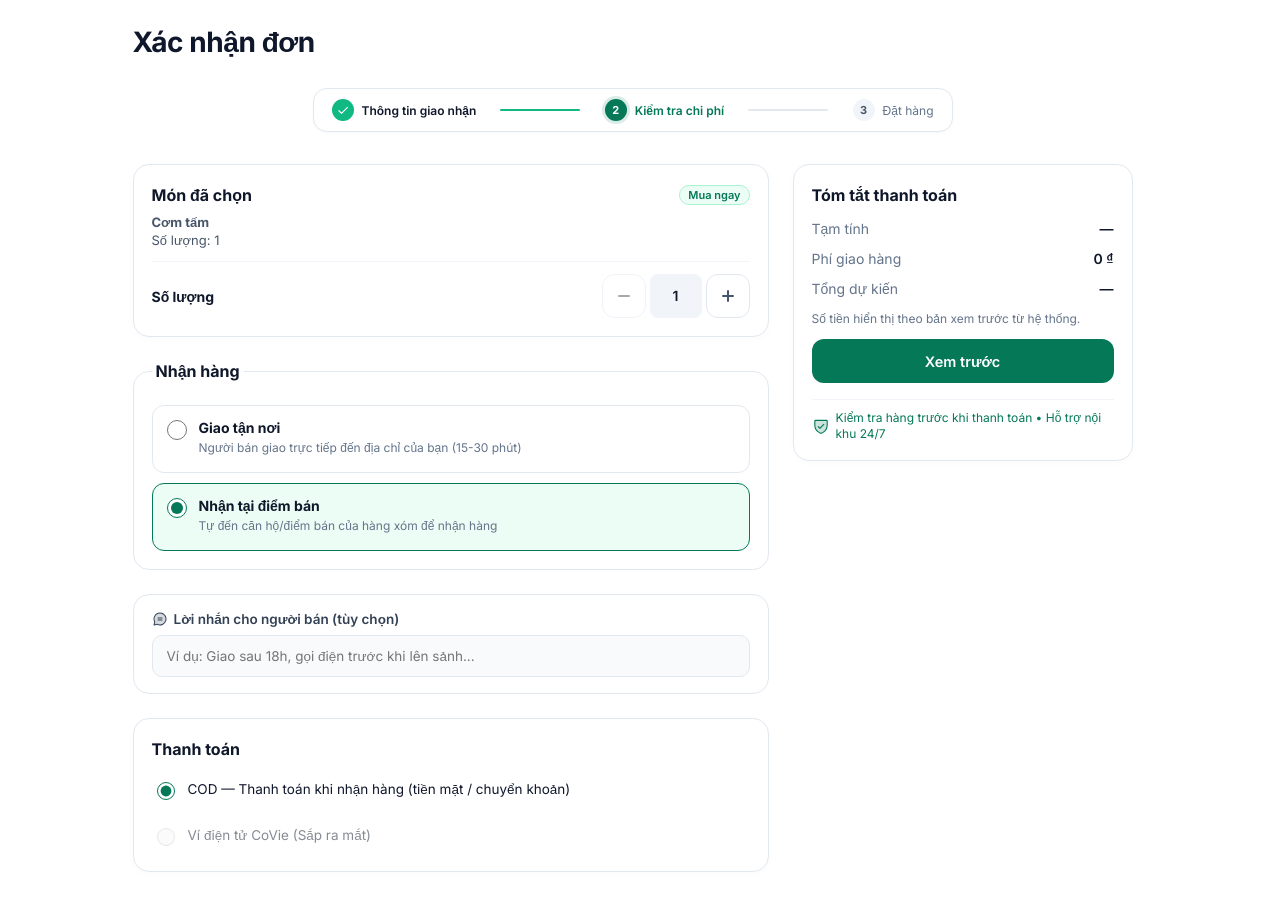
Test: reviews a Need item with backend totals before committing and uses the canonical Need source
Check: the text "Cơm tấm" is shown, box [152,214,209,230]
Click the button "Xem trước" at (962, 361), box [812,339,1114,383]
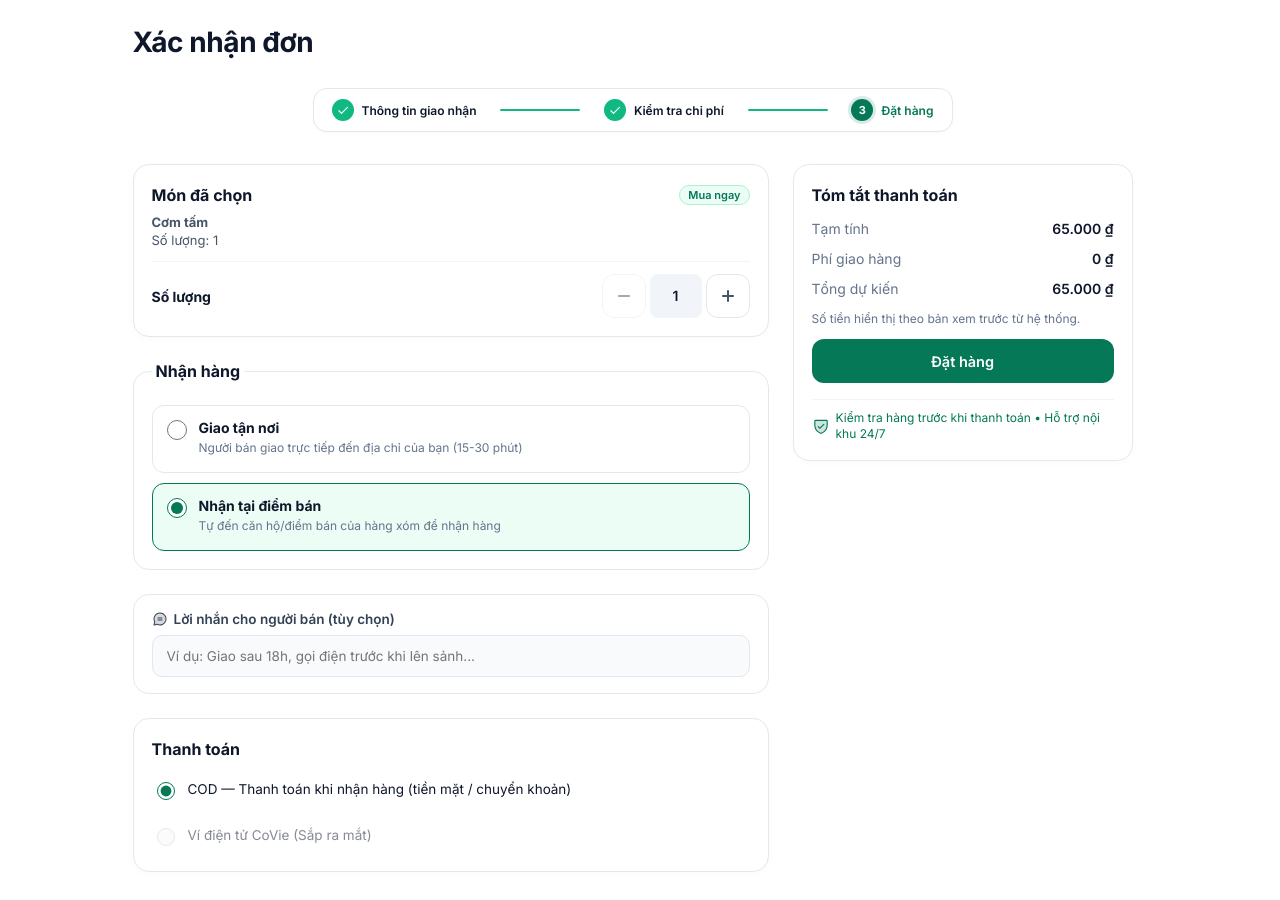
Check: the text "65.000 ₫" in the row of "Tạm tính" is shown, box [1052,220,1114,237]
